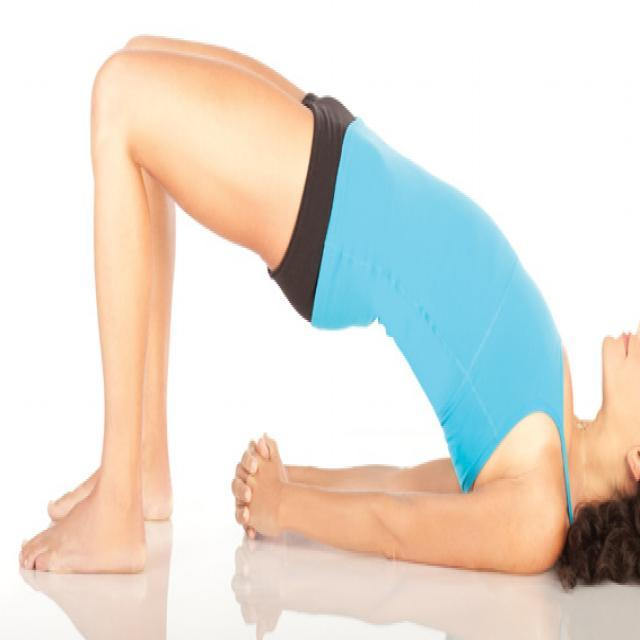yoga-pose bridge: (33, 25, 640, 599)
